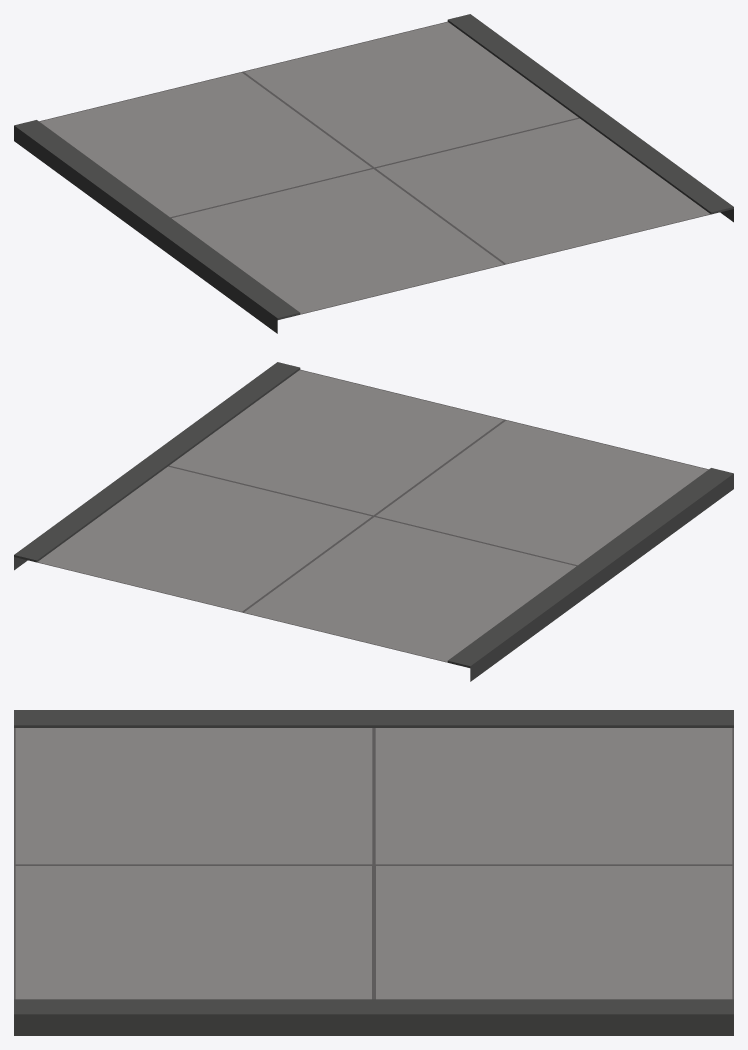
File: M_SideWalk350x350_01.fbx
3 renders of one model, top to bottom at view 1: azimuth 30°, elevation 25°; view 2: azimuth 150°, elevation 25°; view 3: azimuth 270°, elevation 25°, orthographic. The views are drawn at different scales.
Visible parts, largest first — view 1: M_SideWalk350x350_01; view 2: M_SideWalk350x350_01; view 3: M_SideWalk350x350_01.
Boxes of the visible parts, x1,y1,x2,y2 form: M_SideWalk350x350_01: (14,14,733,333); M_SideWalk350x350_01: (14,362,733,681); M_SideWalk350x350_01: (14,710,733,1035).
Bounding box in the file's own units: 350 × 350 × 11.5.
